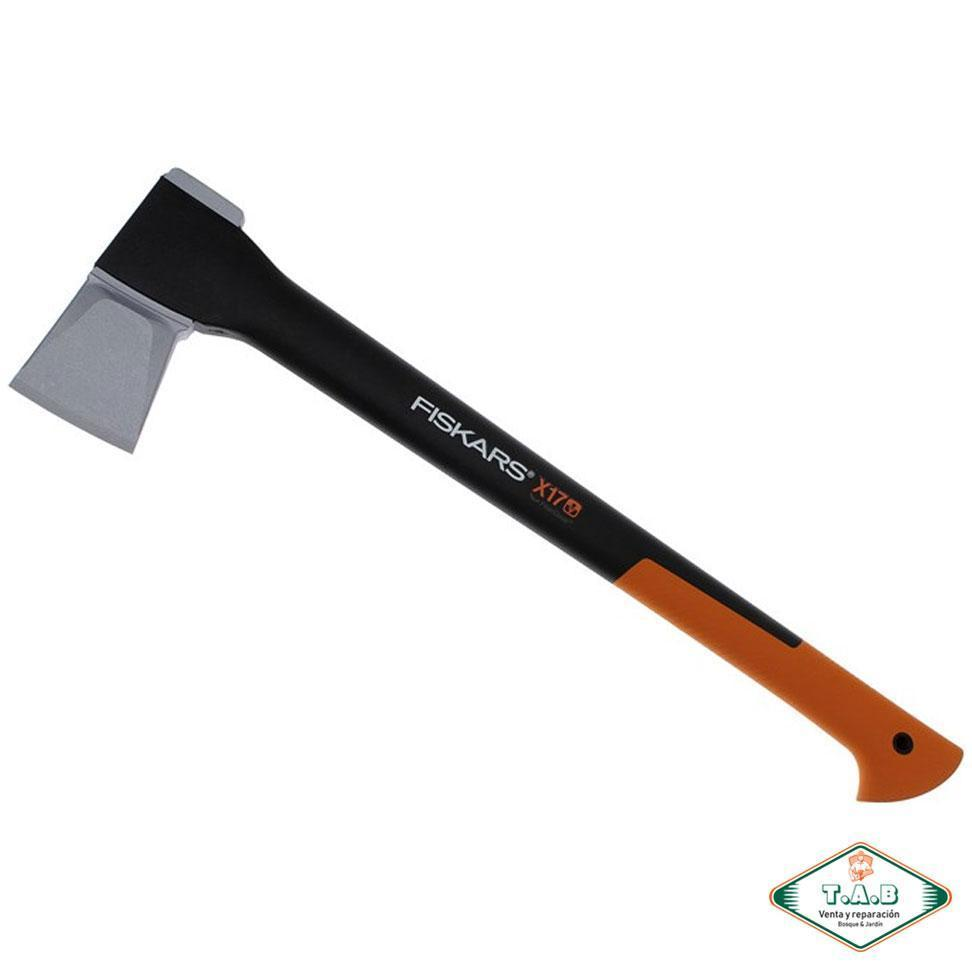machado: (12, 169, 962, 801)
